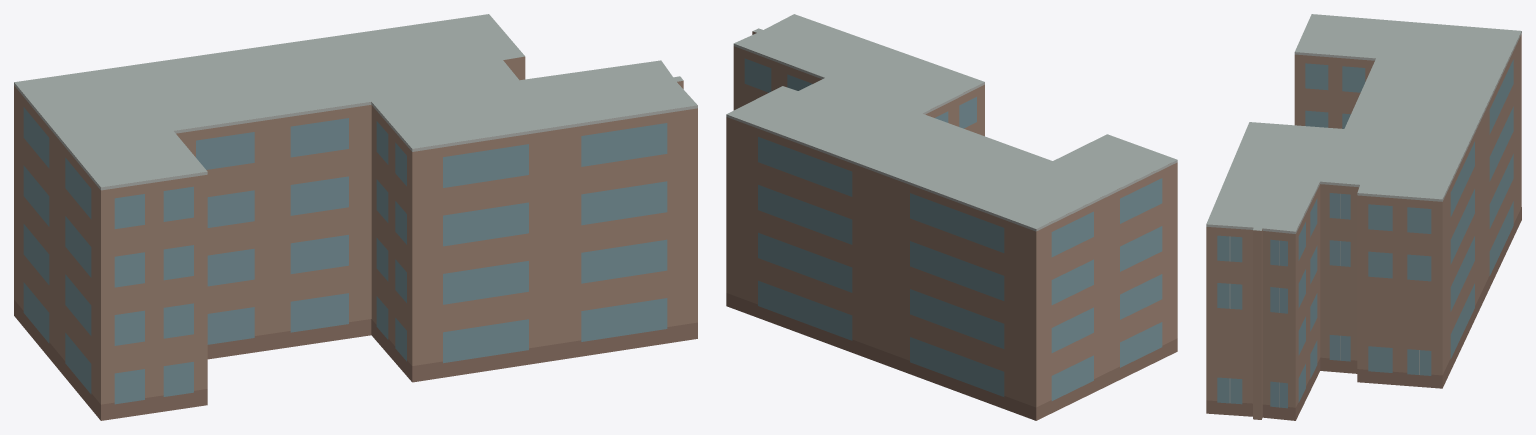
The model's file is survey-upis-32922973.glb.
3 views of the same model, side by side, from view 1: azimuth 30°, elevation 25°; view 2: azimuth 150°, elevation 25°; view 3: azimuth 270°, elevation 25° (orthographic). The views are drawn at different scales.
Visible parts, largest first — view 1: survey-upis-32922973.tmp; view 2: survey-upis-32922973.tmp; view 3: survey-upis-32922973.tmp.
Part boxes in pixels (x1,y1,x2,y2): survey-upis-32922973.tmp: [14, 14, 697, 420]; survey-upis-32922973.tmp: [726, 14, 1177, 420]; survey-upis-32922973.tmp: [1206, 14, 1521, 420].
Bounding box in the file's own units: 46.64 × 18.9 × 28.58.
